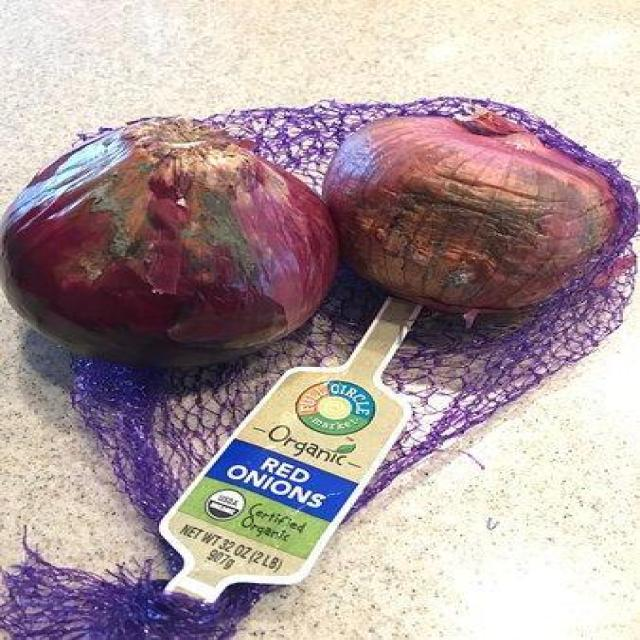Onion: (0, 118, 337, 371), (324, 98, 628, 320)
